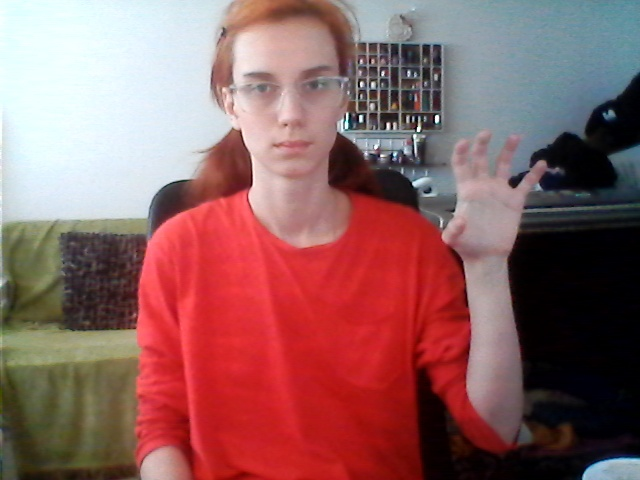budova: (435, 123, 550, 291)
